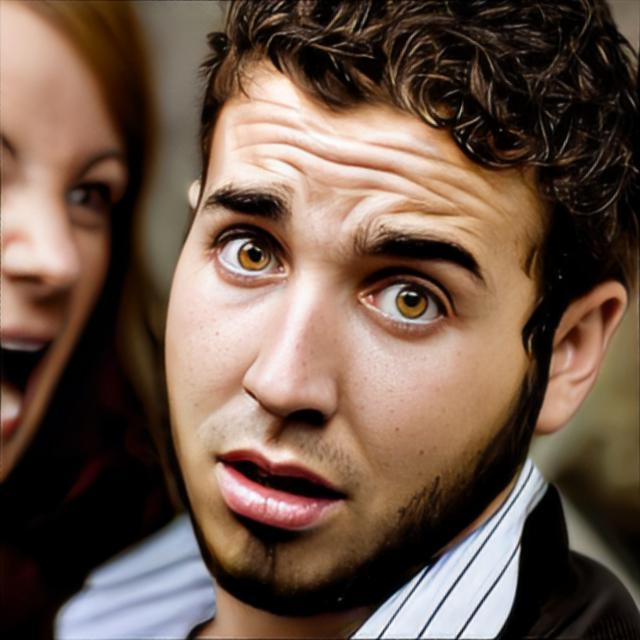fear: (161, 32, 534, 614)
